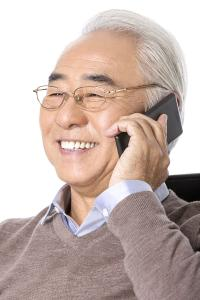phone: (115, 95, 186, 151)
